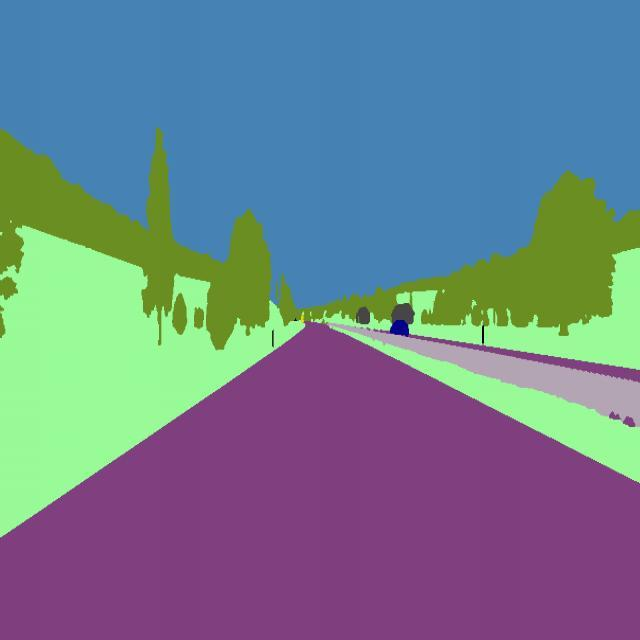safe: (387, 316, 412, 340)
